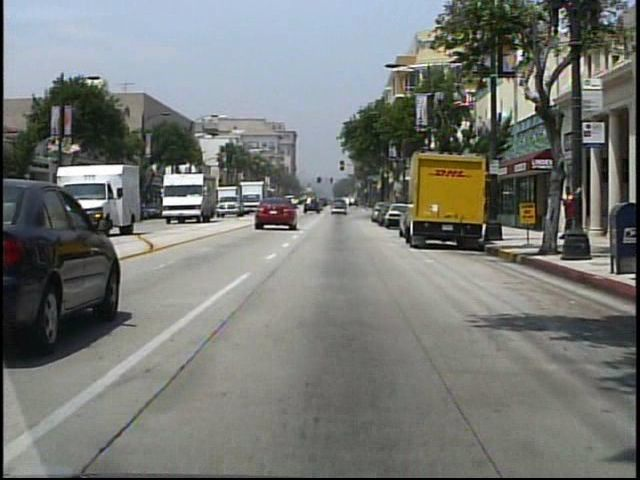person: (559, 183, 580, 239)
